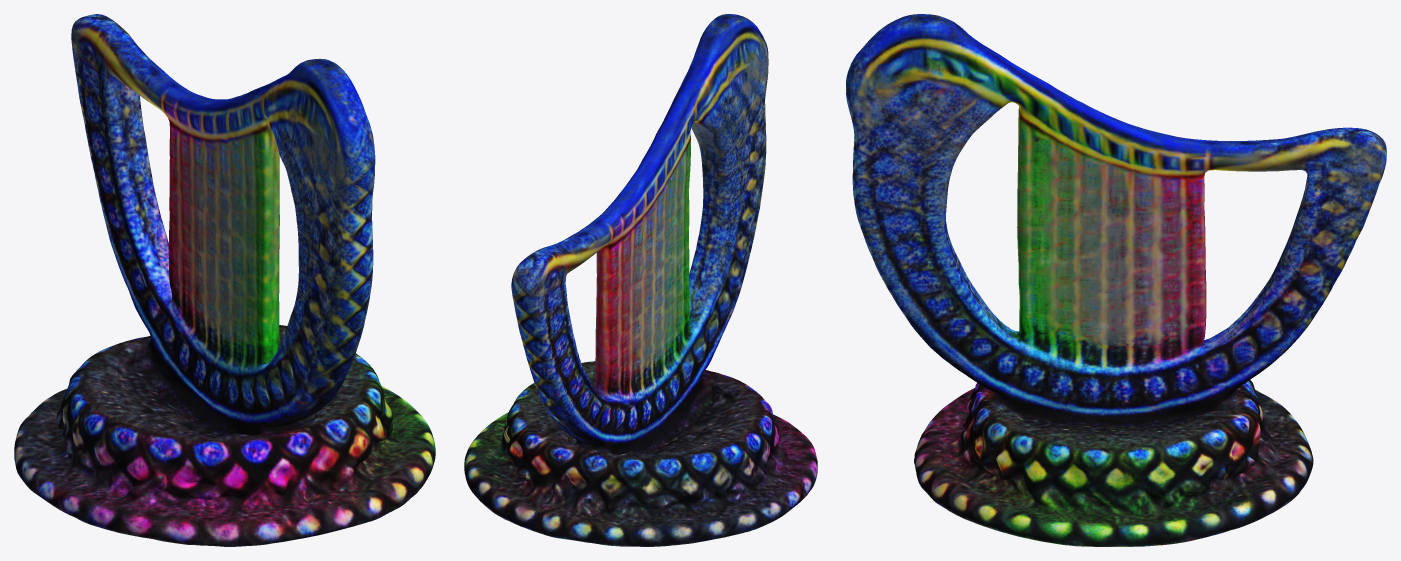
The model's file is harp.glb.
3 views of the same model, side by side, from view 1: azimuth 30°, elevation 25°; view 2: azimuth 150°, elevation 25°; view 3: azimuth 270°, elevation 25° (orthographic). The views are drawn at different scales.
Visible parts, largest first — view 1: high_poly; view 2: high_poly; view 3: high_poly.
Part boxes in pixels (left/top/right/bottom): high_poly: left=14, top=14, right=435, bottom=546; high_poly: left=464, top=14, right=817, bottom=546; high_poly: left=846, top=14, right=1386, bottom=546.
Size of the model in its own units: 0.743 by 0.9152 by 1.
1 material, 1 textured.
